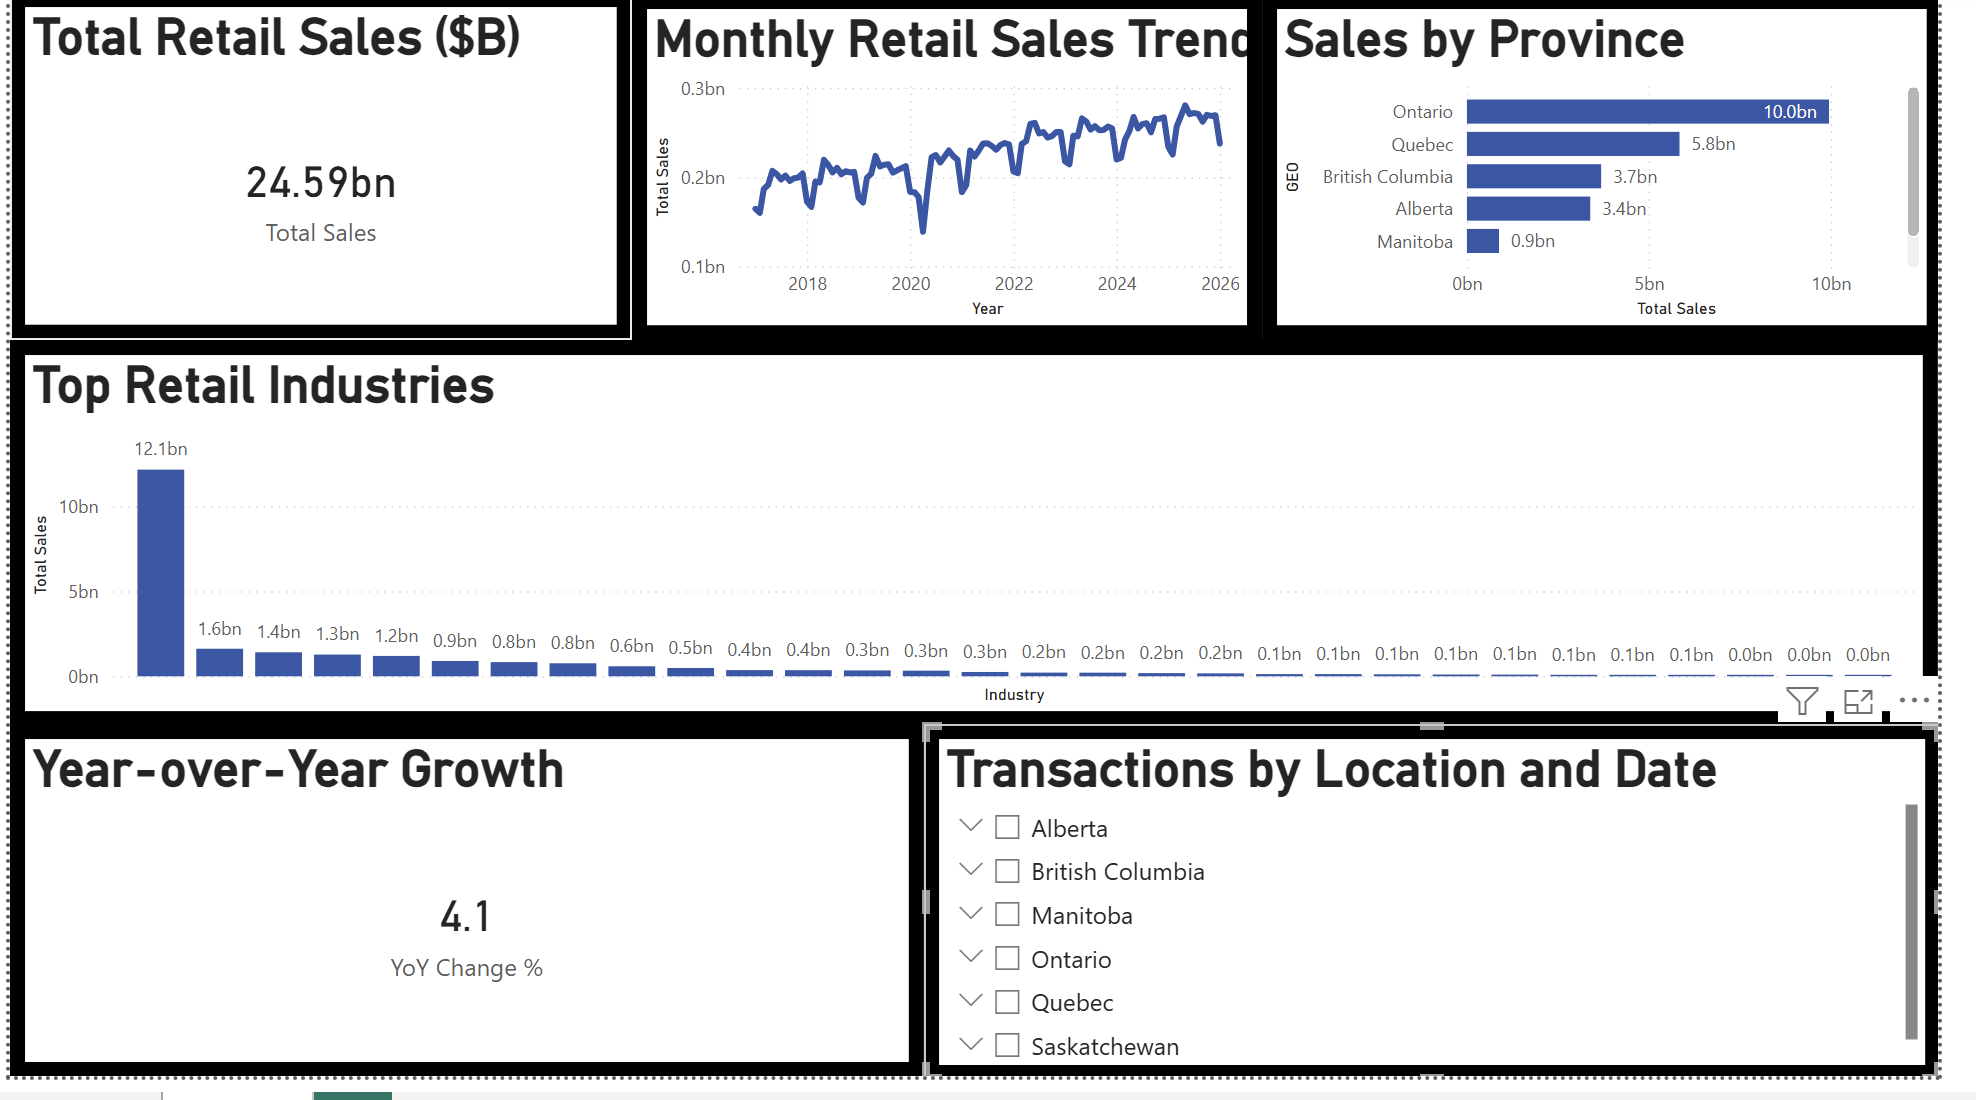

This screenshot's page, from the dashboard's own definition file:
{"tool":"powerbi","page":{"name":"Page 1","canvas":[1280,720],"ordinal":0},"visuals":[{"type":"card","title":"Total Retail Sales ($B)","fields":{"Values":["20100056.Total Sales"]},"box":[10.2,0,341.7,231.2],"z":0},{"type":"clusteredBarChart","title":"Sales by Province","fields":{"Category":["20100056.GEO"],"Y":["20100056.Total Sales"]},"box":[877.1,1.7,406.3,229.5],"z":1000},{"type":"lineChart","title":"Monthly Retail Sales Trend","fields":{"Y":["20100056.Total Sales"],"Category":["20100056.REF_DATE.Variation.Date Hierarchy.Year","20100056.REF_DATE.Variation.Date Hierarchy.Quarter","20100056.REF_DATE.Variation.Date Hierarchy.Month","20100056.REF_DATE.Variation.Date Hierarchy.Day"]},"box":[413.1,1.7,385.9,229.5],"z":2000},{"type":"clusteredColumnChart","title":"Top Retail Industries","fields":{"Category":["20100056.Industry"],"Y":["20100056.Total Sales"]},"box":[10.2,231.2,1269.8,256.7],"z":3000},{"type":"card","title":"Year-over-Year Growth","fields":{"Values":["20100056.YoY Change %"]},"box":[0,486.2,606.9,234.6],"z":4000},{"type":"slicer","title":"Transactions by Location and Date","fields":{"Values":["20100056.GEO","20100056.REF_DATE"]},"box":[606.9,486.2,674.8,236.3],"z":5000}]}

Visuals, with their boxes in screenshot pixels (x1, y1, x2, y2), scaled from the page's 1280x720 canvas onto the 1976x1100 screenshot:
"Total Retail Sales ($B)" card: locate(16, 0, 543, 353)
"Sales by Province" clusteredBarChart: locate(1354, 3, 1975, 353)
"Monthly Retail Sales Trend" lineChart: locate(638, 3, 1233, 353)
"Top Retail Industries" clusteredColumnChart: locate(16, 353, 1975, 745)
"Year-over-Year Growth" card: locate(0, 743, 937, 1099)
"Transactions by Location and Date" slicer: locate(937, 743, 1975, 1099)
